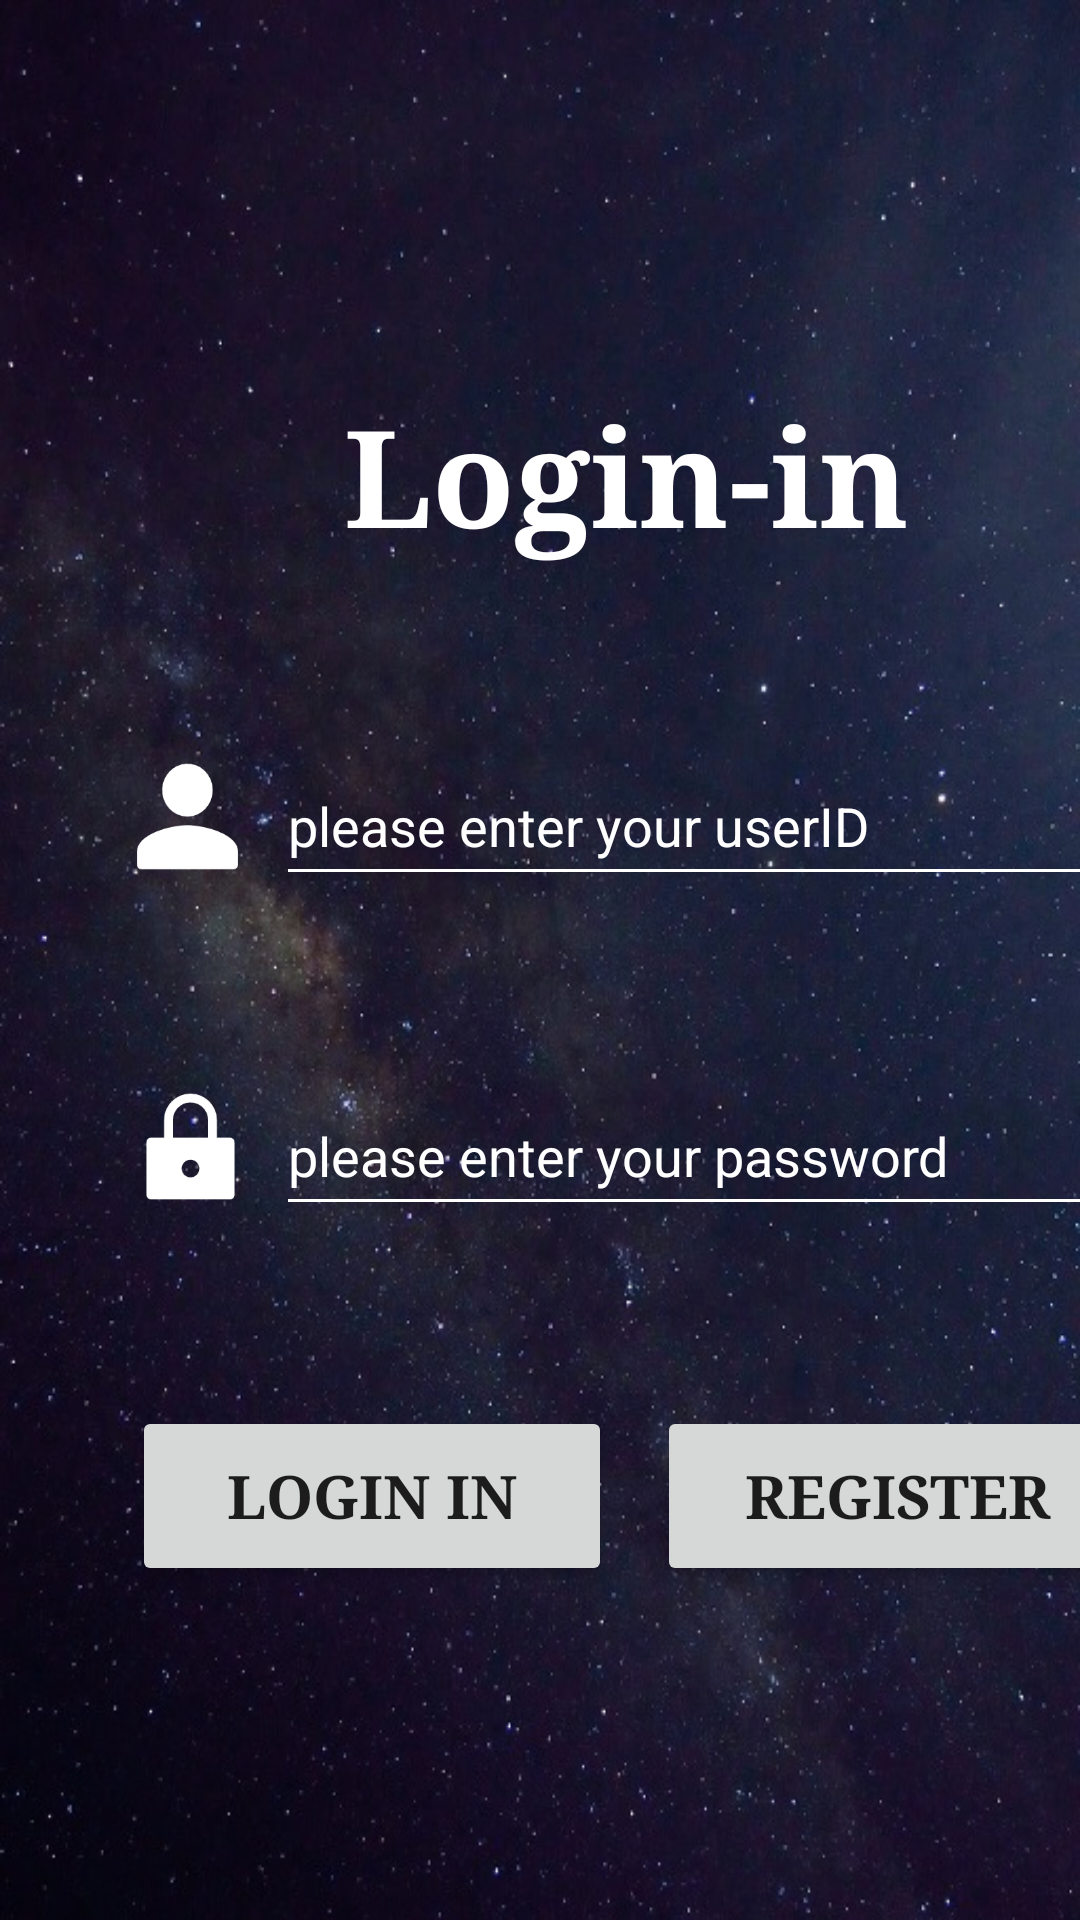

Where icons sit on this 1080 x 1920 app screen, as (left=x1, top=y1, right=x2, bottom=y2):
lock: (left=130, top=1076, right=261, bottom=1206)
person: (left=123, top=751, right=255, bottom=887)
